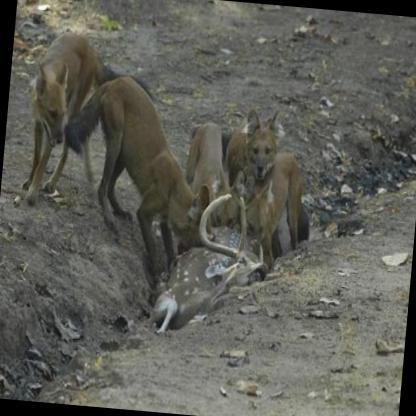dhole: (52, 69, 220, 290), (17, 27, 160, 218), (234, 107, 320, 261), (181, 117, 238, 229), (223, 106, 281, 190)
